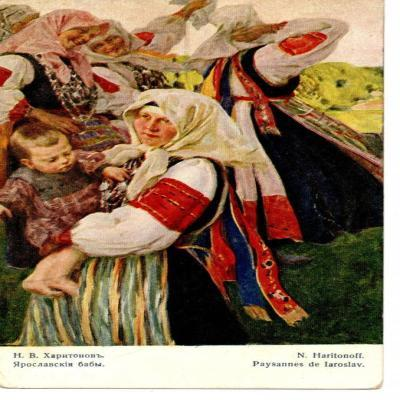graphics: (0, 0, 385, 348)
